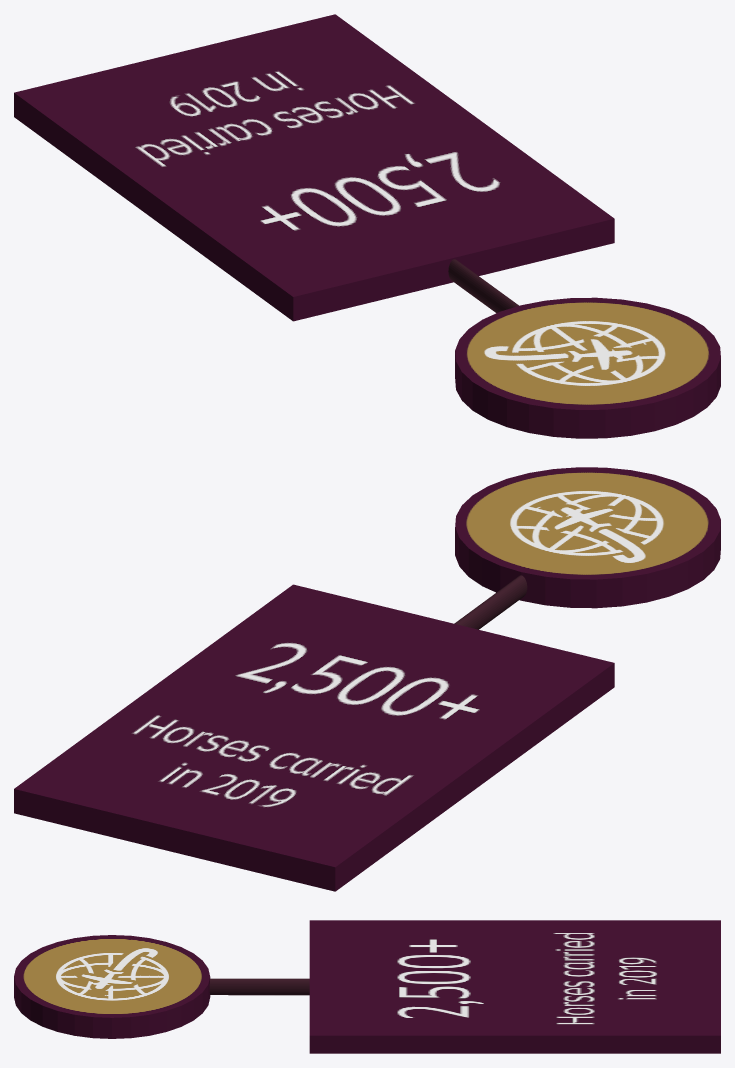
Rendered from Flyer1.gltf.
3 views of the same model, one above another, from view 1: azimuth 30°, elevation 25°; view 2: azimuth 150°, elevation 25°; view 3: azimuth 270°, elevation 25° (orthographic). The views are drawn at different scales.
Parts seen in each view (by area): view 1: Cube, Cylinder, Cylinder.001; view 2: Cube, Cylinder, Cylinder.001; view 3: Cube, Cylinder, Cylinder.001.
Boxes of the visible parts, box(x1,y1,x2,y2) form: Cube: box(14, 14, 614, 321); Cylinder: box(455, 297, 720, 438); Cylinder.001: box(448, 259, 518, 312); Cube: box(14, 584, 614, 891); Cylinder: box(455, 467, 720, 608); Cylinder.001: box(454, 575, 527, 629); Cube: box(309, 920, 720, 1053); Cylinder: box(14, 935, 210, 1038); Cylinder.001: box(209, 978, 309, 995).
Bounding box in the file's own units: 3.08 × 0.2626 × 7.98.
Materials: 3 (2 with a texture image).
